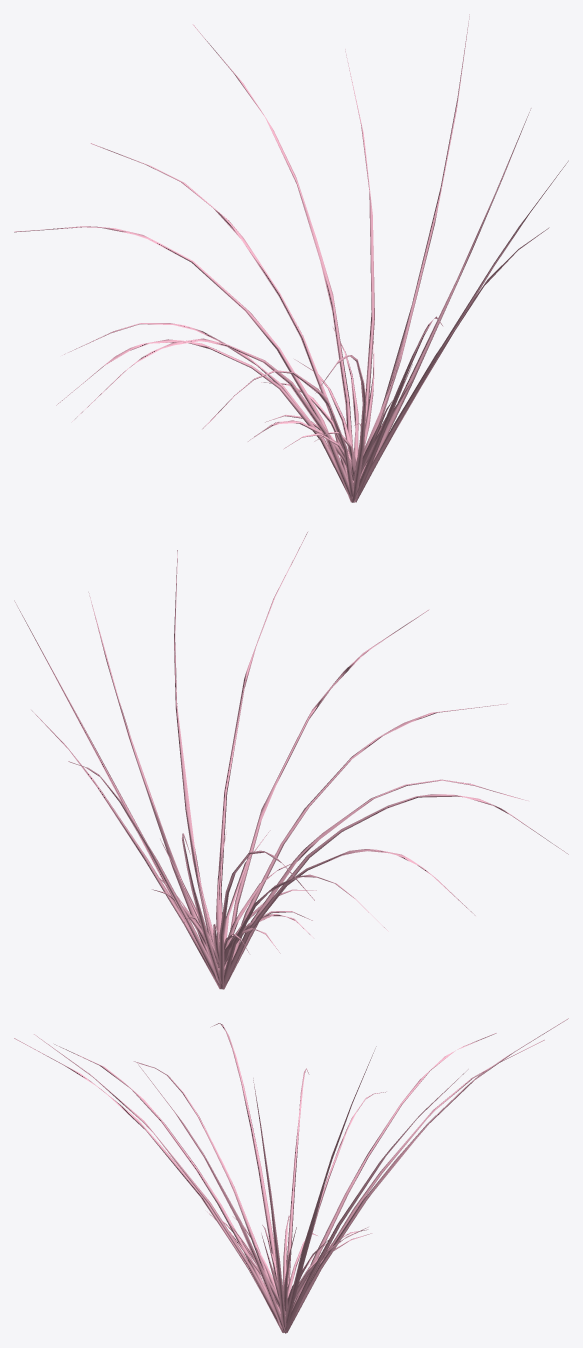
The model's file is grass_1.fbx.
3 renders of one model, top to bottom at view 1: azimuth 30°, elevation 25°; view 2: azimuth 150°, elevation 25°; view 3: azimuth 270°, elevation 25°, orthographic. The views are drawn at different scales.
Visible parts, largest first — view 1: grass_bundle_1; view 2: grass_bundle_1; view 3: grass_bundle_1.
Part boxes in pixels (bbox=[...]): grass_bundle_1: bbox=[14, 14, 568, 502]; grass_bundle_1: bbox=[14, 532, 568, 989]; grass_bundle_1: bbox=[14, 1018, 568, 1333].
Bounding box in the file's own units: 678 × 537 × 754.
